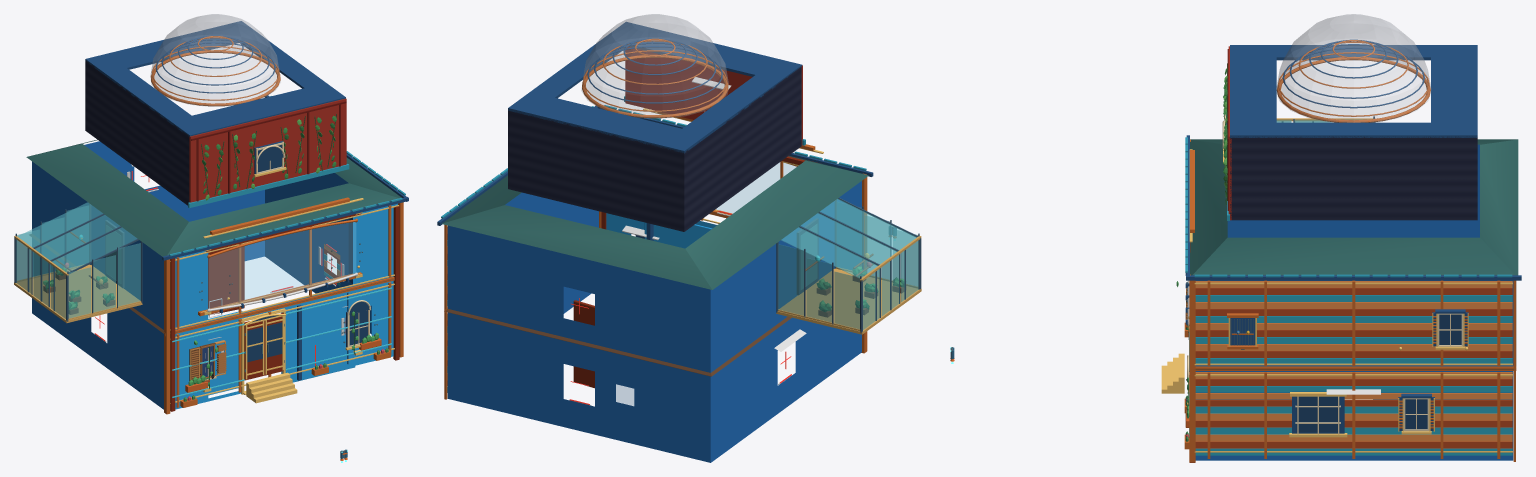
The model's file is exterior-home-N4MdbUeT.glb.
The picture shows the model from 3 angles, left to right: view 1: azimuth 30°, elevation 25°; view 2: azimuth 150°, elevation 25°; view 3: azimuth 270°, elevation 25°; orthographic projection. The views are drawn at different scales.
Parts seen in each view (by area): view 1: WallLeft, RoofMain, ObsDome, WallFront, ObsFront, CUTAWAY_UpperOpening_Glass, ObsLeft, WallRight, EXT_GroundFacade_Right, EXT_ObservatoryRoof_Front, EXT_ObservatoryRoof_Back, AVIARY_Left_Floor (+42 smaller); view 2: WallBack, WallLeft, RoofMain, ObsBack, ObsDome, ObsLeft, ObsFront, EXT_ObservatoryRoof_Back, AVIARY_Left_Floor, EXT_ObservatoryRoof_Front, EXT_ObservatoryRoof_Left, WallRight (+26 smaller); view 3: ObsRight, RoofMain, ObsDome, WallLeft, EXT_ObservatoryRoof_Back, EXT_ObservatoryRoof_Front, WallRight, EXT_ObservatoryRoof_Right, EXT_Right_Lower_Board_1, EXT_Right_Lower_Board_2, EXT_Right_Lower_Board_10, EXT_Right_Upper_Board_1 (+36 smaller).
Part boxes in pixels (x1,y1,x2,y2): WallLeft: (32,161,163,409); RoofMain: (26,139,401,256); ObsDome: (150,14,280,106); WallFront: (175,203,397,409); ObsFront: (189,98,346,202); CUTAWAY_UpperOpening_Glass: (209,222,355,308); ObsLeft: (85,60,189,205); WallRight: (265,173,371,334); EXT_GroundFacade_Right: (281,293,355,382); EXT_ObservatoryRoof_Front: (170,83,345,136); EXT_ObservatoryRoof_Back: (85,21,260,74); AVIARY_Left_Floor: (14,265,142,323); WallBack: (447,225,710,462); WallLeft: (710,181,861,462); RoofMain: (442,156,868,289); ObsBack: (508,110,684,231); ObsDome: (581,14,728,118); ObsLeft: (684,67,801,231); ObsFront: (625,46,802,145); EXT_ObservatoryRoof_Back: (508,92,706,153); AVIARY_Left_Floor: (776,268,921,334); EXT_ObservatoryRoof_Front: (604,22,802,81); EXT_ObservatoryRoof_Left: (682,75,779,136); WallRight: (505,192,598,313); ObsRight: (1230,136,1477,220); RoofMain: (1190,139,1518,275); ObsDome: (1276,14,1431,122); WallLeft: (1227,144,1479,237); EXT_ObservatoryRoof_Back: (1431,45,1477,137); EXT_ObservatoryRoof_Front: (1230,45,1276,137); WallRight: (1195,280,1513,460); EXT_ObservatoryRoof_Right: (1276,122,1430,137); EXT_Right_Lower_Board_1: (1195,441,1512,448); EXT_Right_Lower_Board_2: (1195,434,1512,441); EXT_Right_Lower_Board_10: (1195,379,1512,385); EXT_Right_Upper_Board_1: (1195,351,1512,357).
Size of the model in its own units: 25.8 by 24.52 by 33.7.
